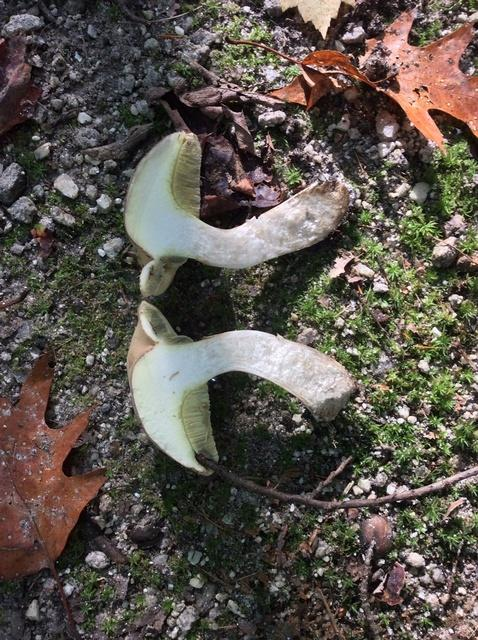edible_mushroom: (125, 299, 359, 477), (122, 129, 351, 297)
